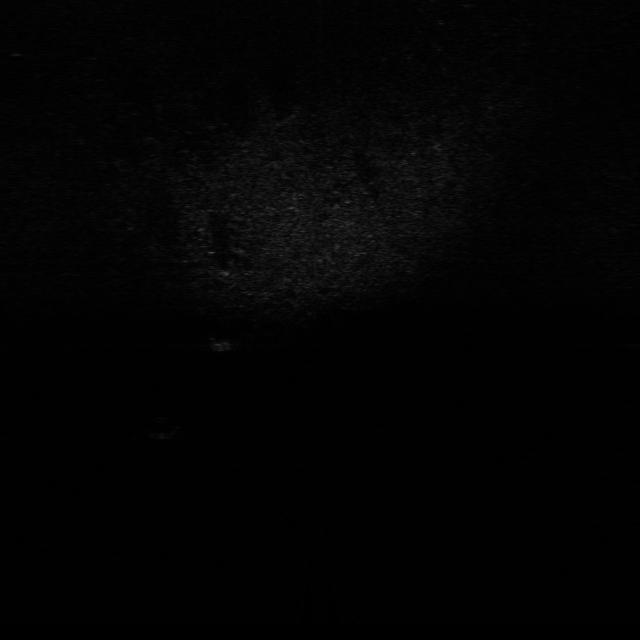ball: (146, 415, 182, 439)
cube: (204, 332, 234, 354)
